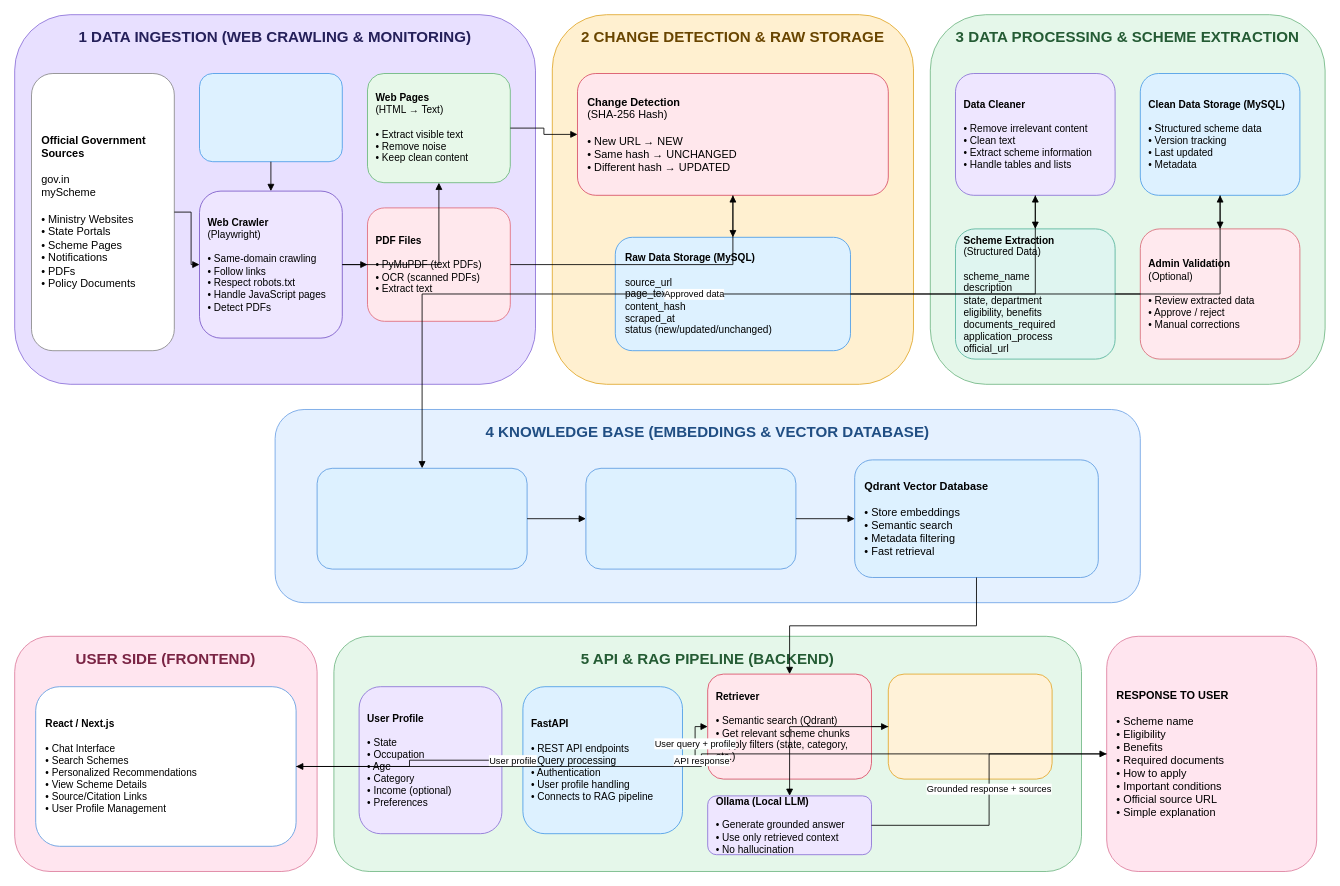
This 1340x886 diagram has some shape labels left out. Each missing label, with the centre of its shape:
Chunking • Split cleaned content • Preserve metadata • Optimal chunk size: point (421, 518)
Embeddings • Sentence Transformers • Create vector embeddings • Store metadata: point (690, 518)
Relevant Context • Top relevant chunks • Scheme name + URL metadata: point (969, 726)
Scheduler (Every 12 hours) APScheduler / Cron: point (270, 117)
